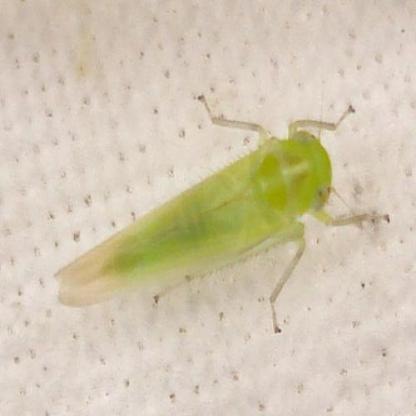green-leafhopper: (51, 94, 388, 337)
